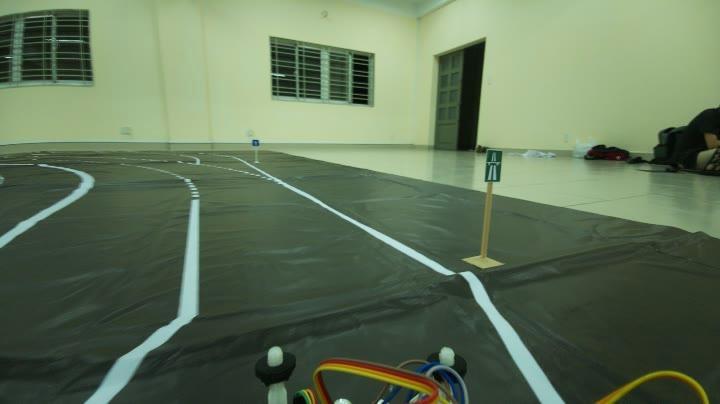highway_entry: (480, 144, 508, 190)
